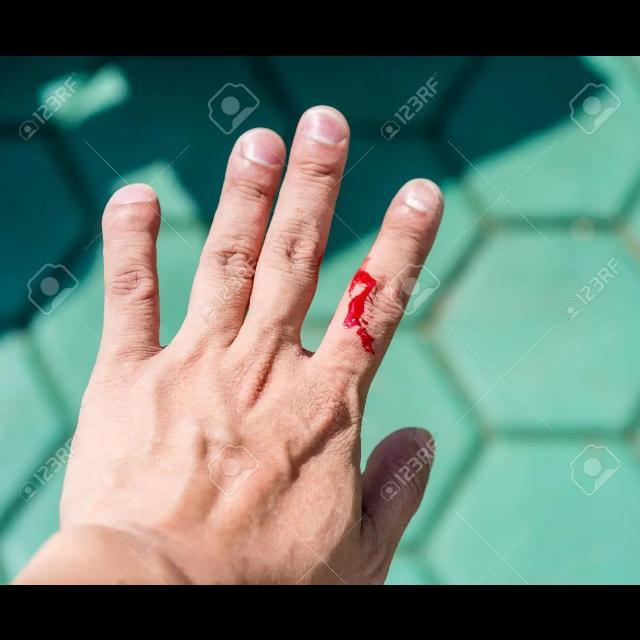blood: (343, 256, 377, 350)
